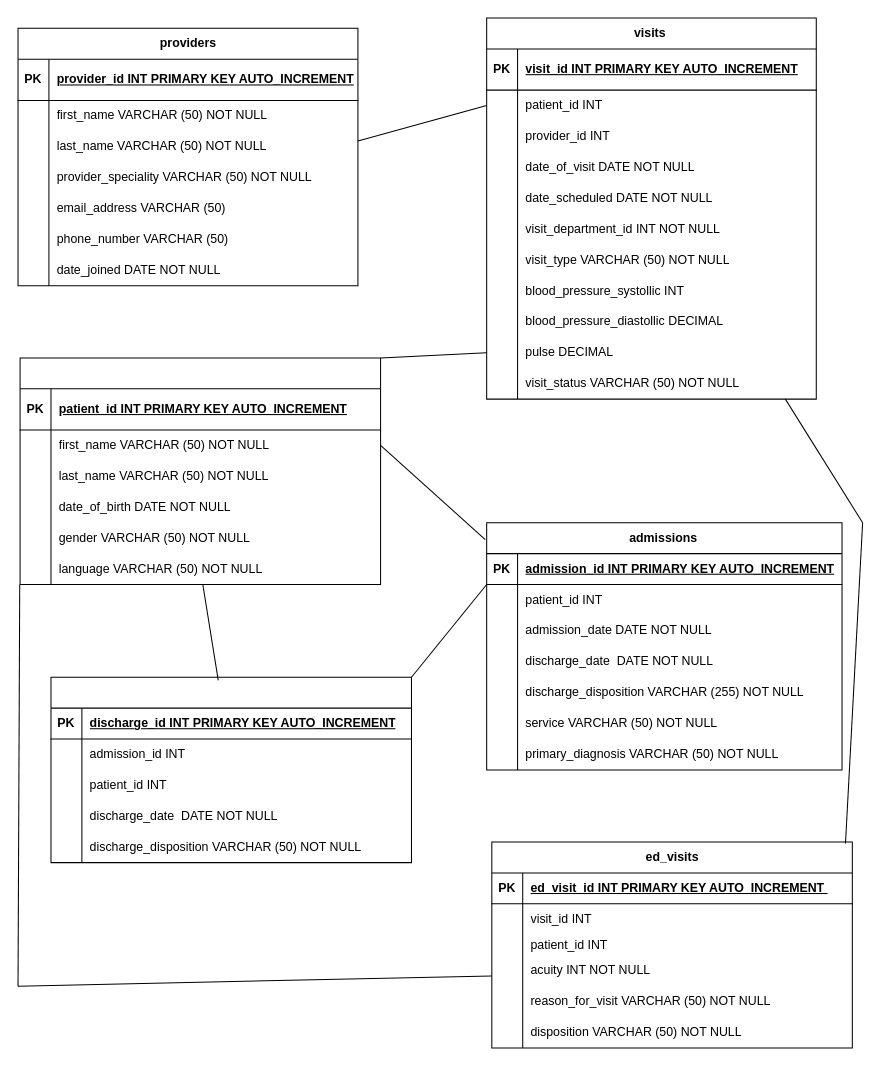
The diagram is 882 pixels wide and 1066 high, and some of its shapes have lost their labels. Each missing label, with the box of its shape:
discharges: (50, 676, 411, 863)
patients: (19, 357, 381, 585)
